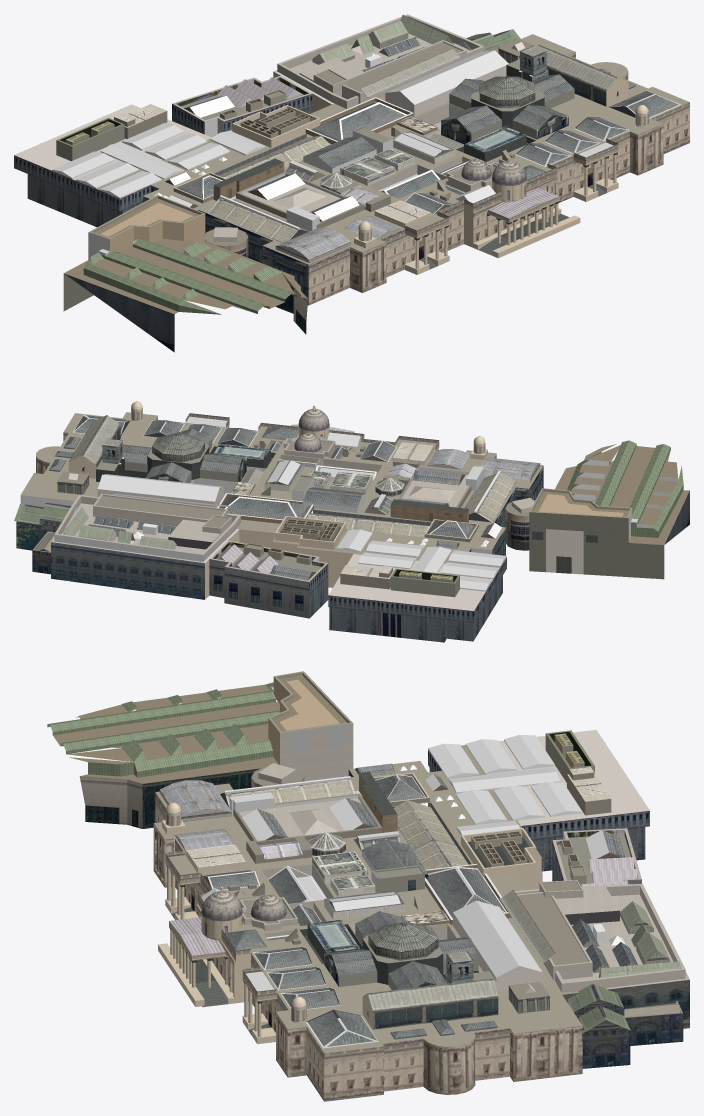
File: gallery.glb
3 views of the same model, one above another, from view 1: azimuth 30°, elevation 25°; view 2: azimuth 150°, elevation 25°; view 3: azimuth 270°, elevation 25° (orthographic). The views are drawn at different scales.
Visible parts, largest first — view 1: Geom3D (×45), Geom3D_Component#15 (×8); view 2: Geom3D (×49), Geom3D_Component#15 (×6); view 3: Geom3D (×48), Geom3D_Component#15 (×7).
Boxes of the visible parts, x1,y1,x2,y2 form: Geom3D (×45): (14,14,689,352); Geom3D_Component#15 (×8): (52,123,264,197); Geom3D (×49): (14,409,689,642); Geom3D_Component#15 (×6): (336,529,506,577); Geom3D (×48): (47,671,689,1101); Geom3D_Component#15 (×7): (428,734,581,823).
Size of the model in its own units: 197 by 23.76 by 152.
80 materials, 76 textured.
